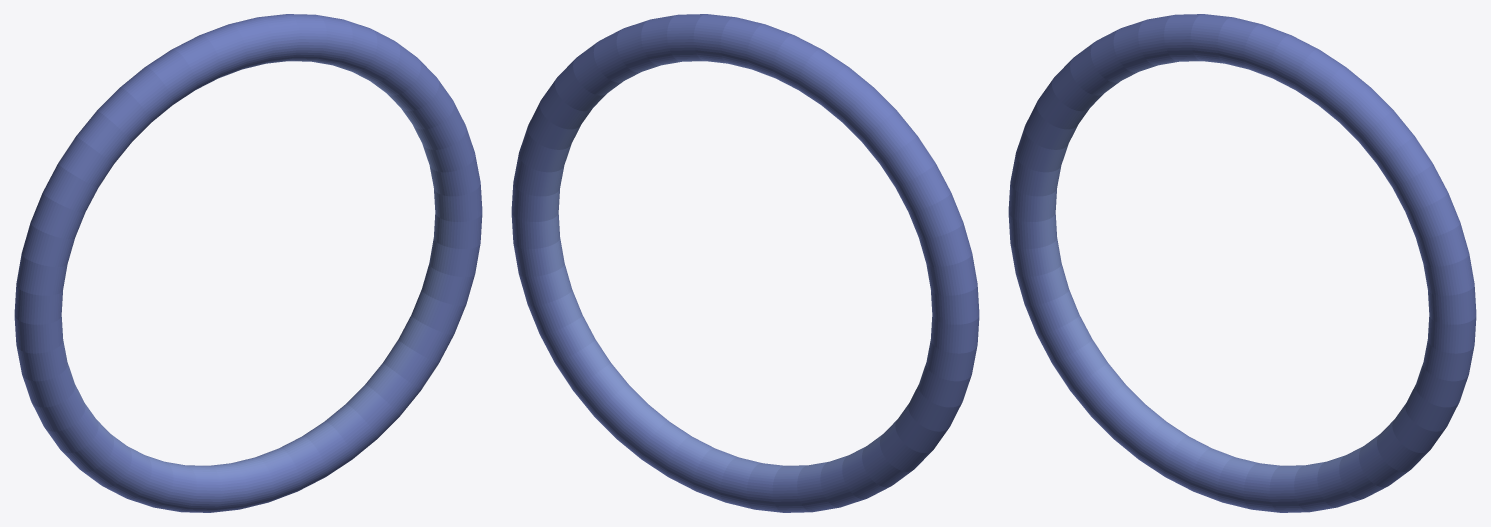
The picture shows the model from 3 angles, left to right: view 1: azimuth 30°, elevation 25°; view 2: azimuth 150°, elevation 25°; view 3: azimuth 330°, elevation 25°; orthographic projection.
Visible parts, largest first — view 1: world; view 2: world; view 3: world.
Part boxes in pixels (bbox=[...]): world: bbox=[14, 14, 482, 512]; world: bbox=[511, 14, 979, 512]; world: bbox=[1008, 14, 1476, 512].
Size of the model in its own units: 25.6 by 25.55 by 2.26.
